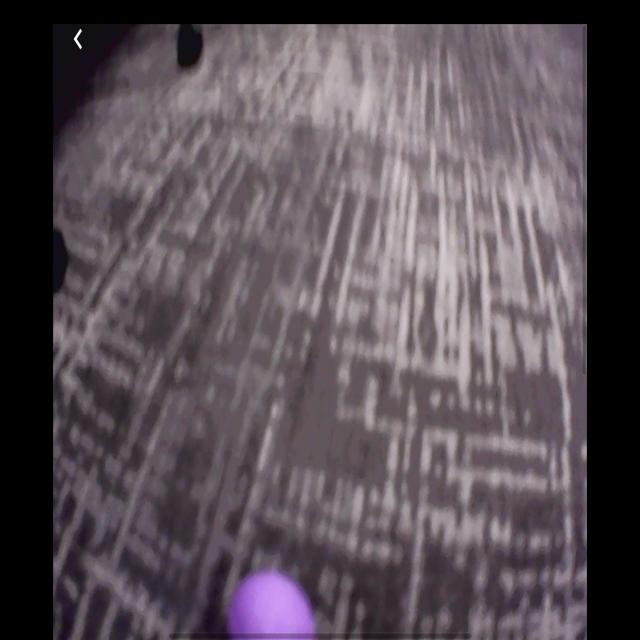ball: (229, 570, 314, 640)
